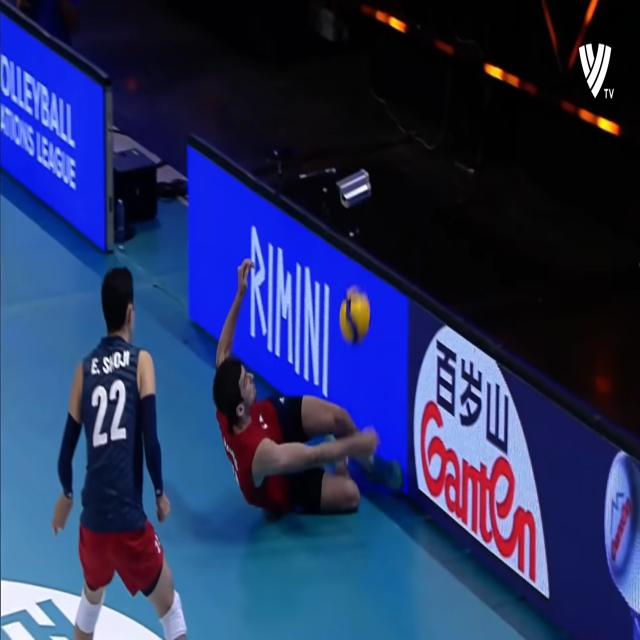player: (51, 262, 188, 640), (212, 258, 406, 516)
